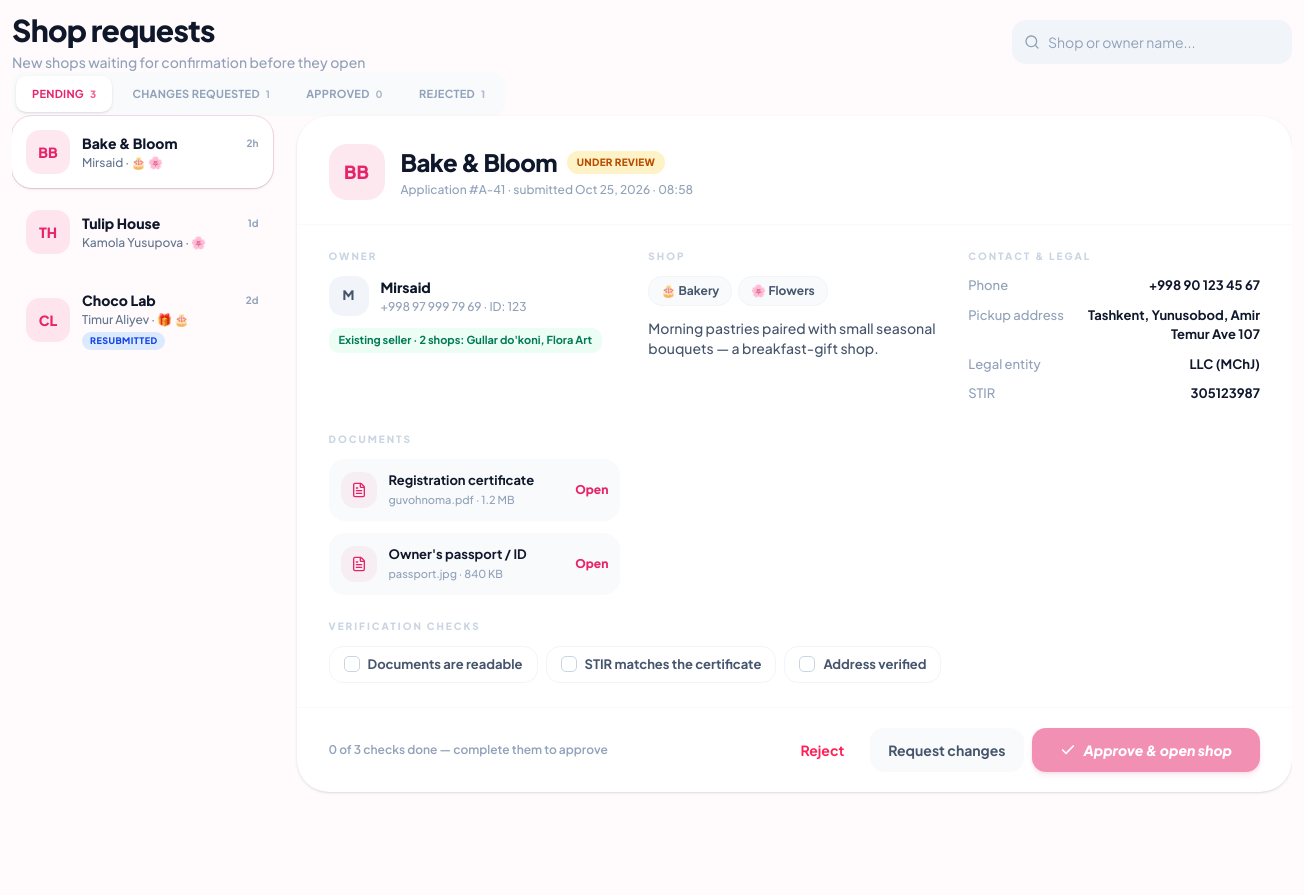
Test: ShopRequestsPage › fills the note from a preset when requesting changes
The width and height of the screenshot is (1304, 895).
What coordinates should you click on to do the following:
click the button "Request changes"
I would click on:
 (947, 750)
Its box is [870,728,1024,772].
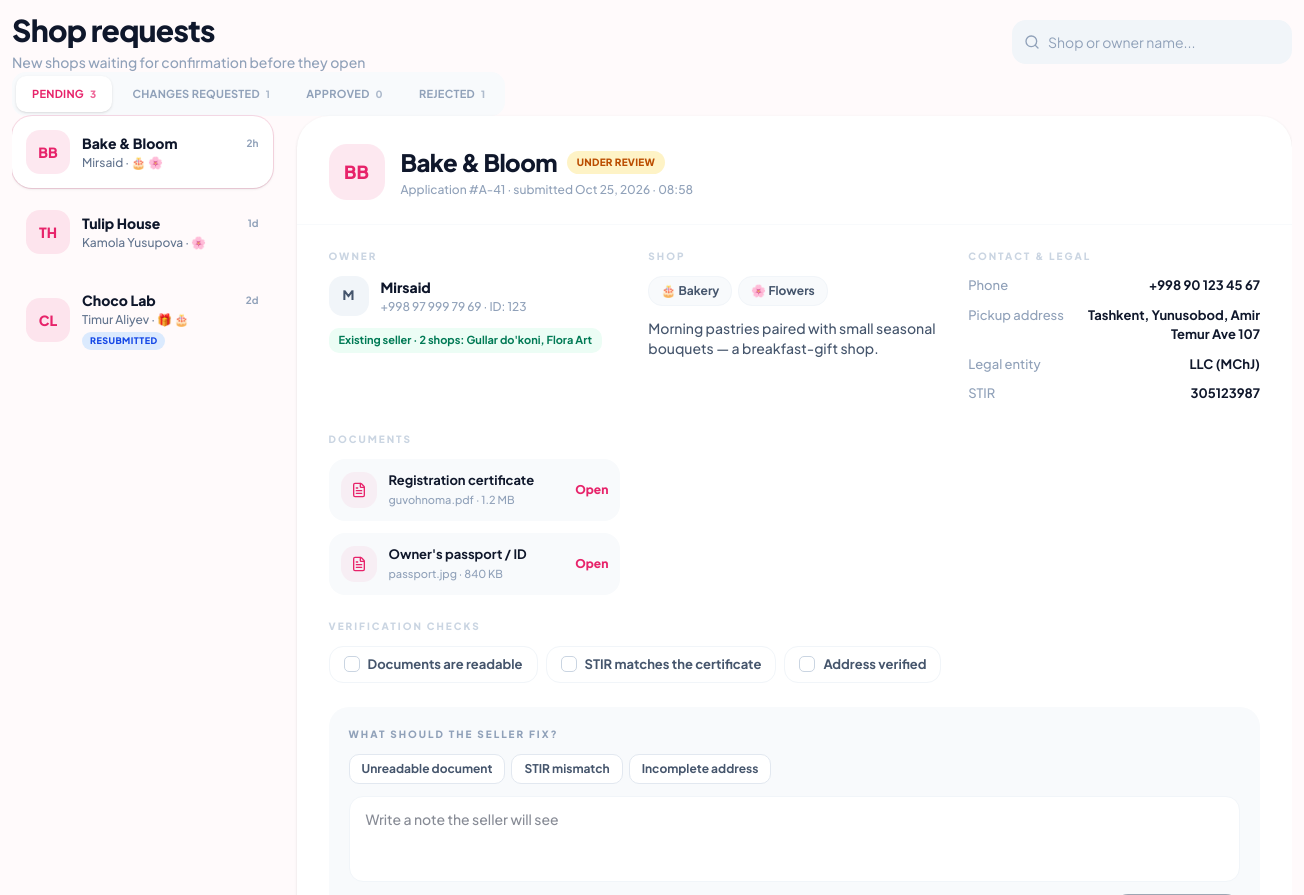
What coordinates should you click on to do the following:
click the button "Incomplete address"
I would click on:
 (700, 769)
Its box is [629,754,771,784].
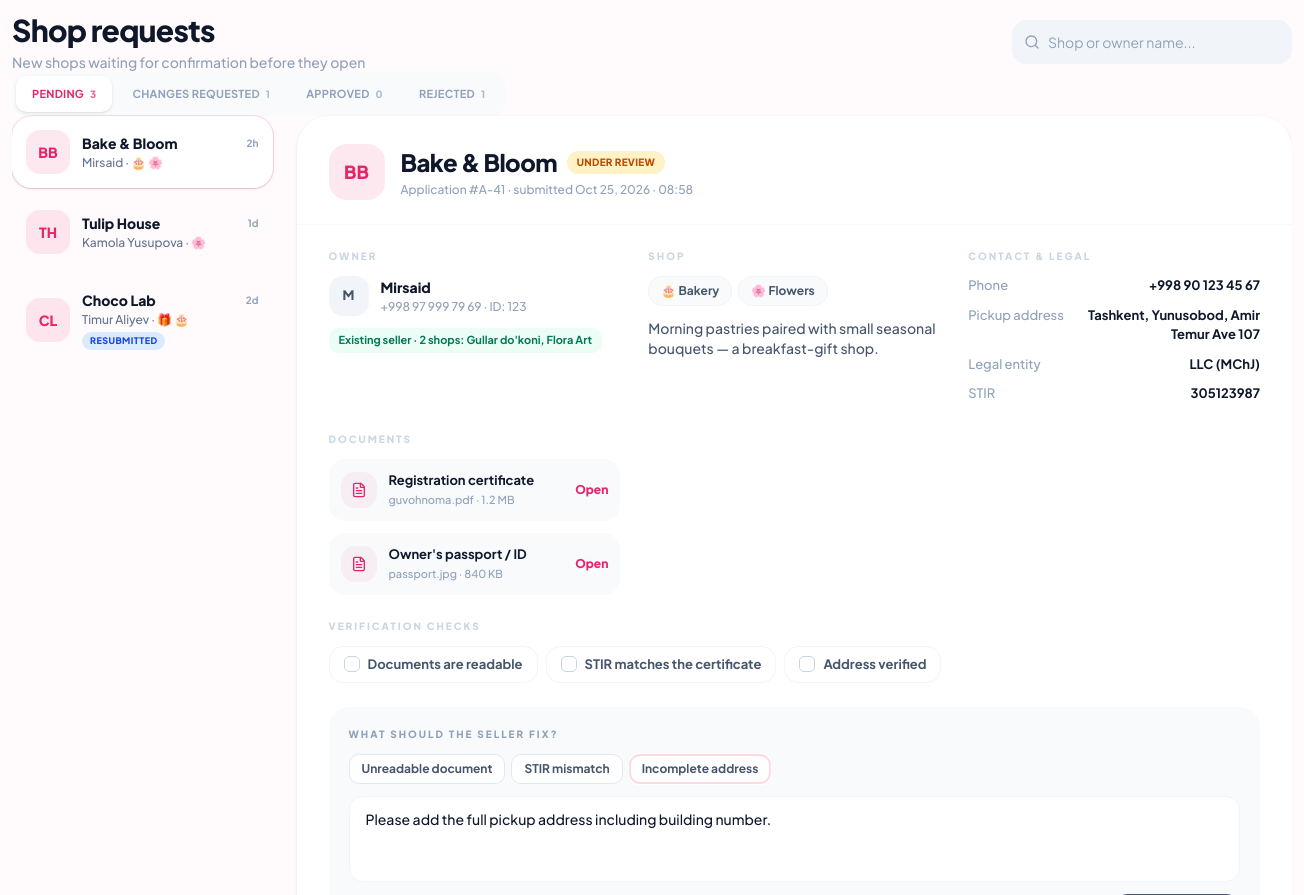
Expected: the text box labelled "What should the seller fix?" holds "Please add the full pickup address including building number.", [348,796,1240,882]
